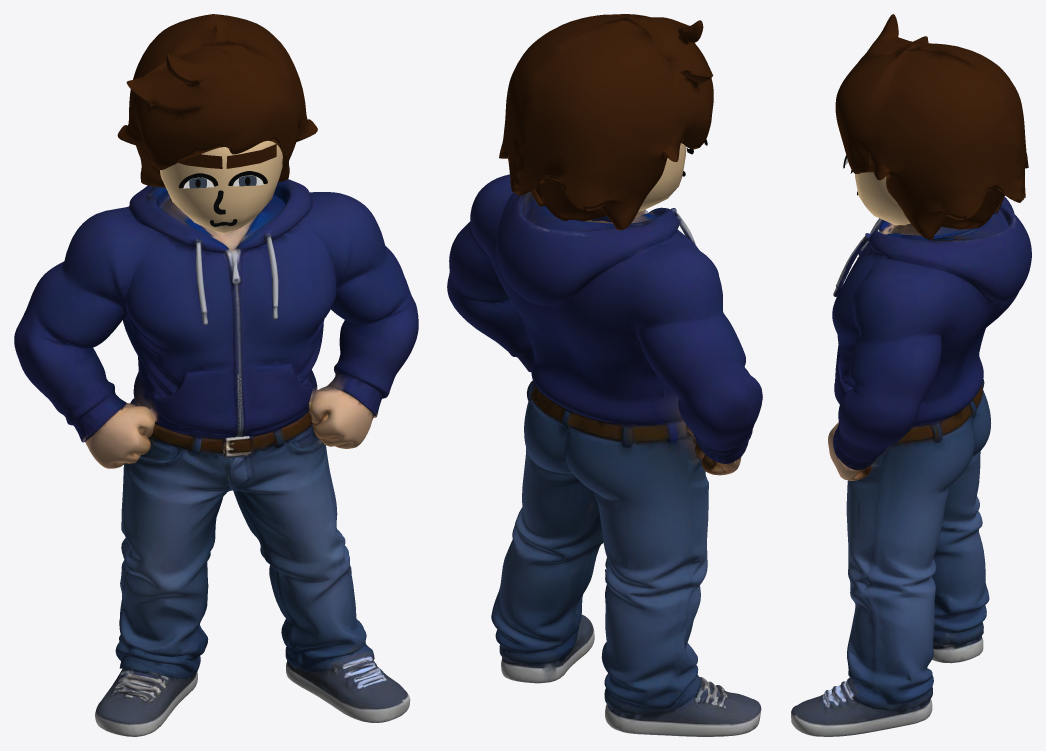
File: home.glb
3 views of the same model, side by side, from view 1: azimuth 30°, elevation 25°; view 2: azimuth 150°, elevation 25°; view 3: azimuth 270°, elevation 25° (orthographic). The views are drawn at different scales.
Visible parts, largest first — view 1: node_0.005; view 2: node_0.005; view 3: node_0.005.
Part boxes in pixels (x1,y1,x2,y2): node_0.005: (14, 14, 418, 736); node_0.005: (447, 14, 762, 736); node_0.005: (791, 14, 1031, 736).
Bounding box in the file's own units: 3.08 × 5.81 × 2.
Materials: 6 (1 with a texture image).
